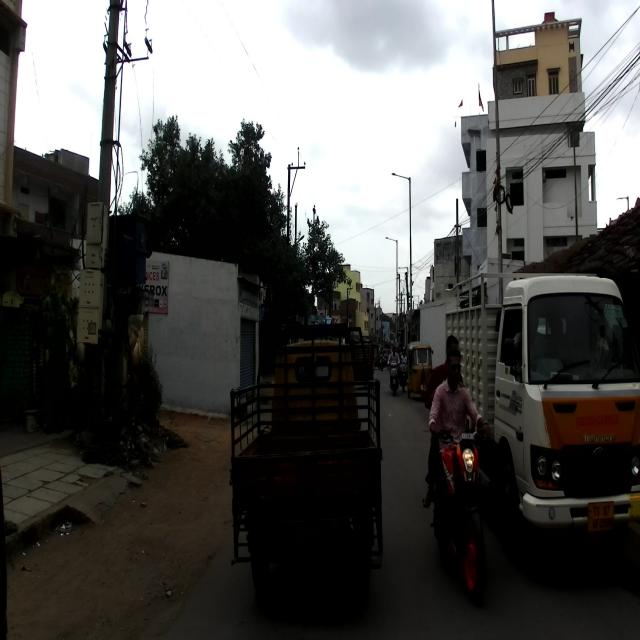autorickshaw: (227, 324, 383, 594)
motorcycle_KTM: (429, 416, 493, 603)
truck: (443, 271, 639, 556)
